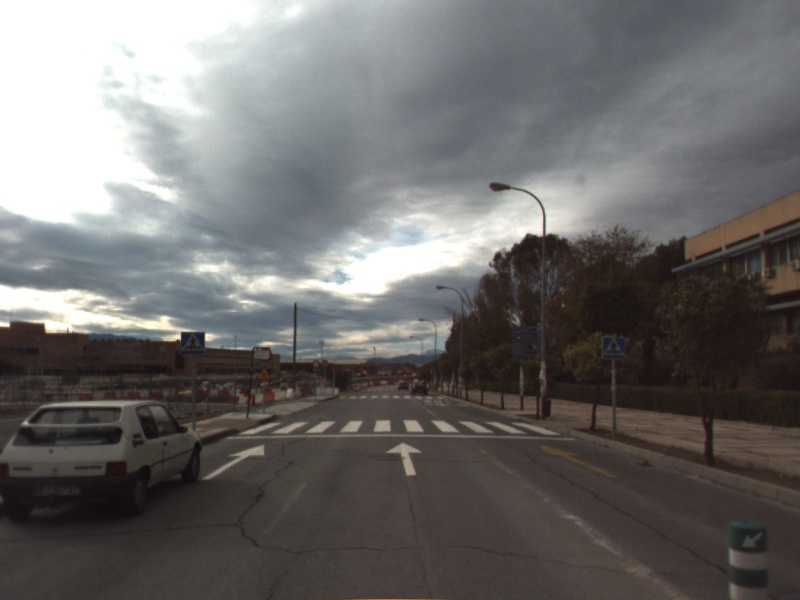STRAIGHT: (539, 442, 619, 479), (199, 443, 266, 482), (384, 440, 424, 477)
